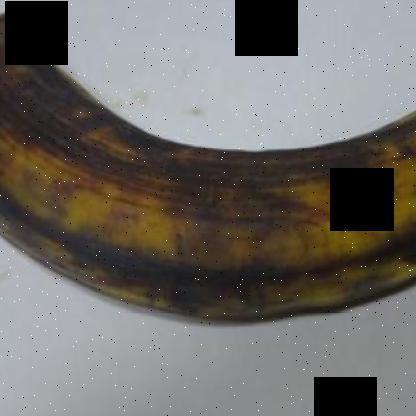overripe: (1, 5, 415, 363)
